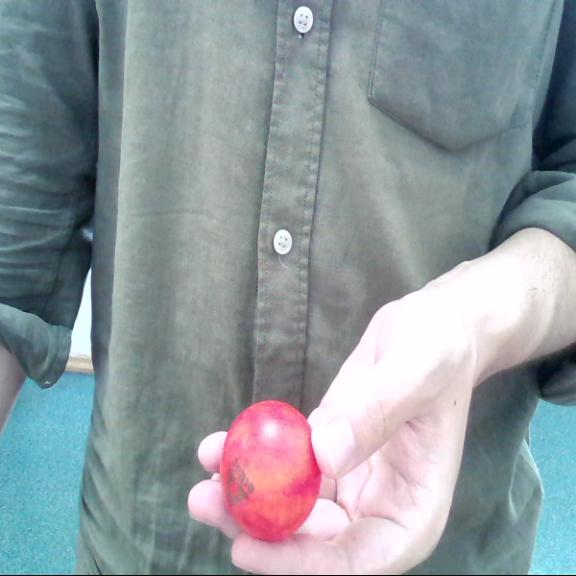ball: (222, 398, 324, 541)
